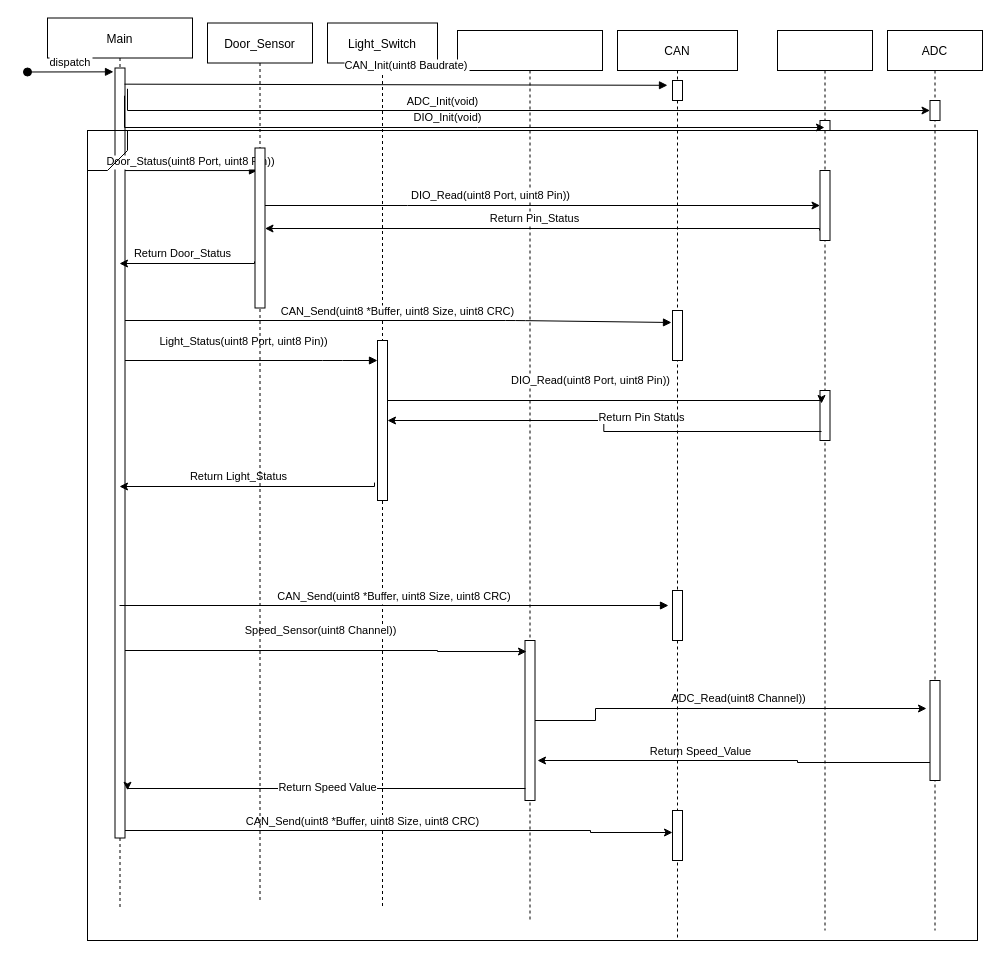
This 1000x958 diagram has some shape labels left out. Here are the shapes that lost their labels. From the top down, the box of each, then its label:
(86, 130, 128, 170): loop
(456, 30, 602, 920): Speed_Sensor
(776, 30, 872, 930): DIO
